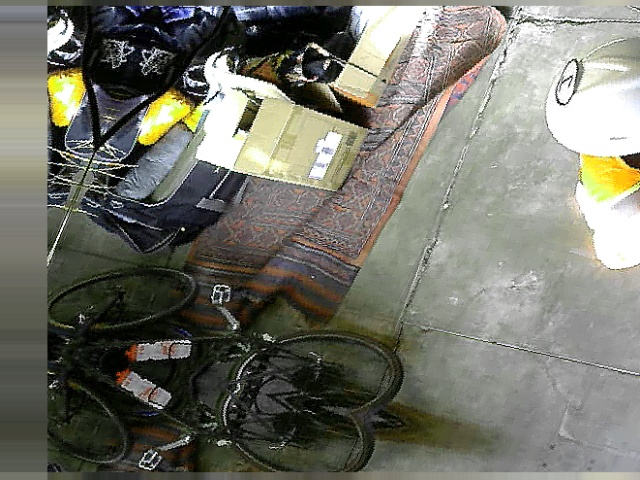one: (549, 58, 585, 105)
